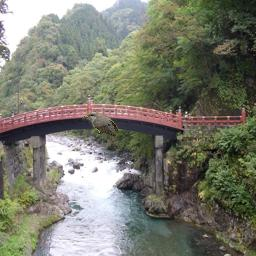Cuckoo: (82, 113, 122, 150)
